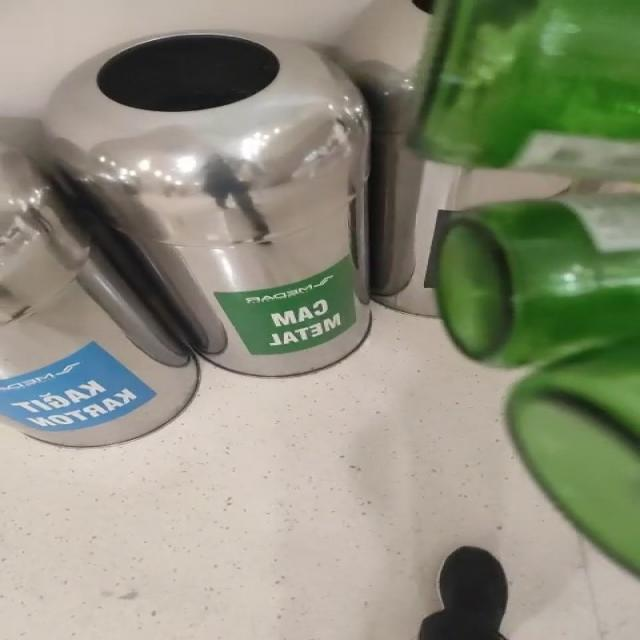Glass: (432, 190, 640, 572), (412, 0, 639, 180)
